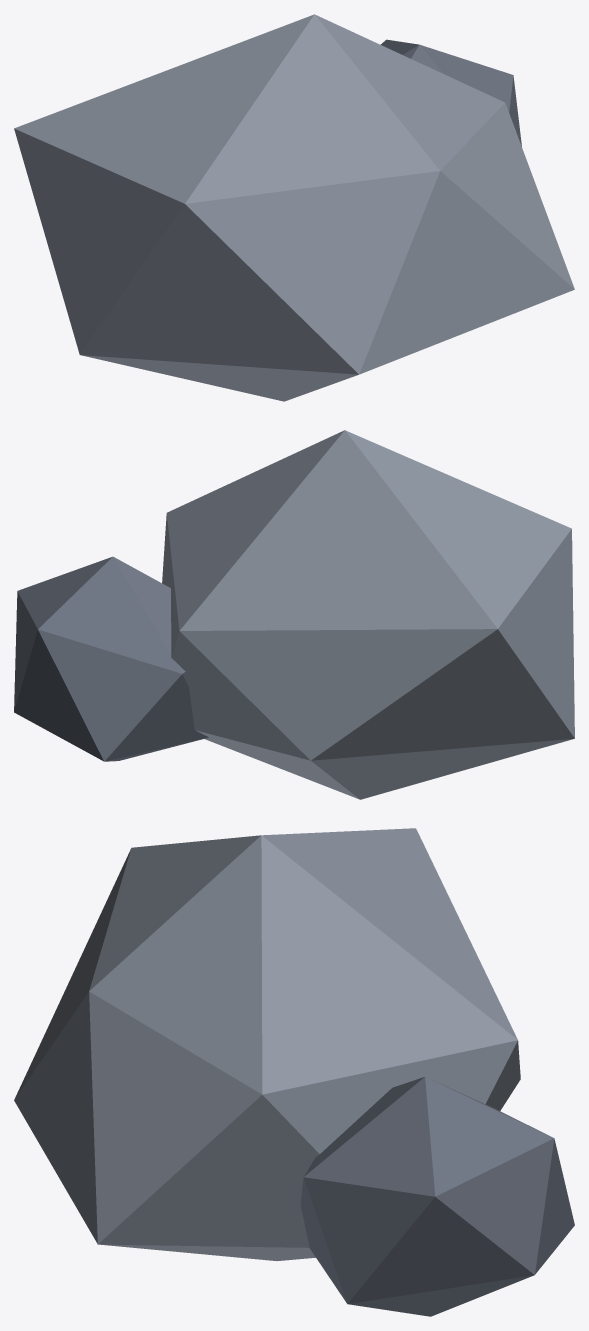
The model's file is rock.glb.
3 renders of one model, top to bottom at view 1: azimuth 30°, elevation 25°; view 2: azimuth 150°, elevation 25°; view 3: azimuth 270°, elevation 25°, orthographic. The views are drawn at different scales.
Visible parts, largest first — view 1: g_m_8b93a0, g_m_6b7280; view 2: g_m_8b93a0, g_m_6b7280; view 3: g_m_8b93a0, g_m_6b7280.
Boxes of the visible parts, <box> form: g_m_8b93a0: <box>14,14,574,401</box>; g_m_6b7280: <box>380,39,521,146</box>; g_m_8b93a0: <box>162,430,574,799</box>; g_m_6b7280: <box>14,556,208,761</box>; g_m_8b93a0: <box>14,828,520,1260</box>; g_m_6b7280: <box>300,1077,574,1316</box>.
Size of the model in its own units: 2.43 by 1.74 by 2.01.
